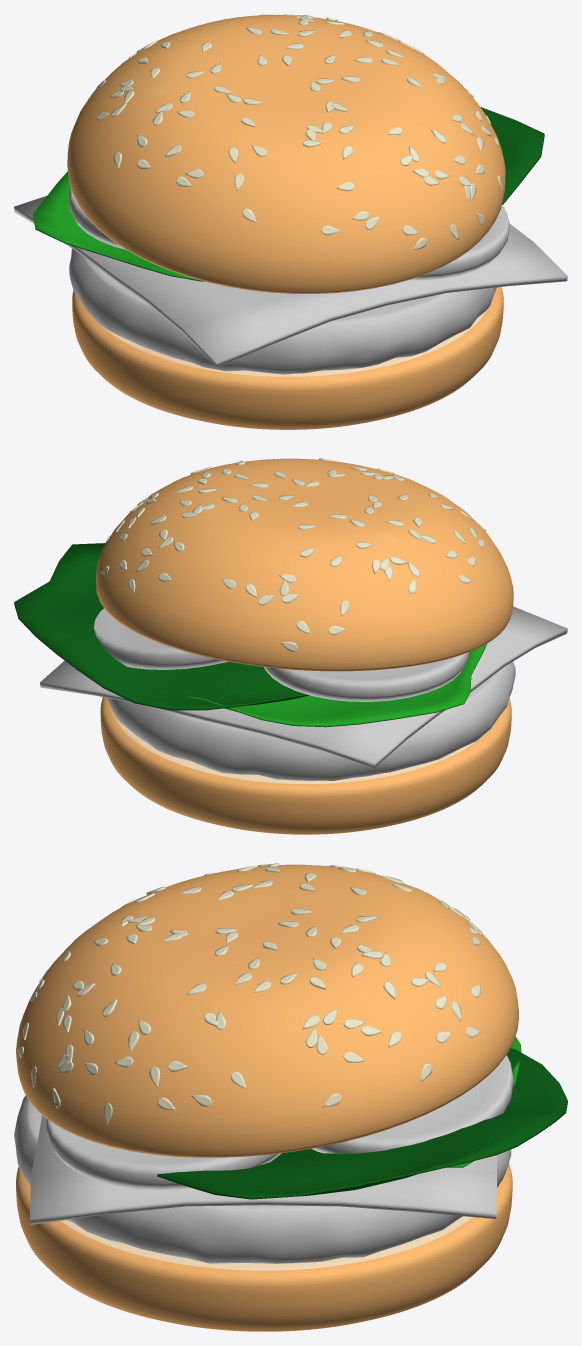
Rendered from Hamburguesa.fbx.
3 renders of one model, top to bottom at view 1: azimuth 30°, elevation 25°; view 2: azimuth 150°, elevation 25°; view 3: azimuth 270°, elevation 25°, orthographic. The views are drawn at different scales.
Parts seen in each view (by area): view 1: PanArriba, PanBajo, Queso, CarneTernera, Lechuga, Lechuga.001, Tomate.002, Tomate.001; view 2: PanArriba, PanBajo, CarneTernera, Lechuga.001, Queso, Lechuga, Tomate.001, Tomate; view 3: PanArriba, PanBajo, CarneTernera, Lechuga.001, Queso, Tomate.002, Tomate.
Boxes of the visible parts, x1,y1,x2,y2 form: PanArriba: (67,14,505,293); PanBajo: (72,287,503,429); Queso: (14,196,567,367); CarneTernera: (69,248,496,374); Lechuga: (33,171,204,281); Lechuga.001: (480,107,544,204); Tomate.002: (409,204,509,280); Tomate.001: (69,188,125,249); PanArriba: (96,458,513,671); PanBajo: (100,697,511,834); CarneTernera: (106,662,515,780); Lechuga.001: (14,543,309,710); Queso: (40,606,567,767); Lechuga: (188,644,486,727); Tomate.001: (264,652,469,701); Tomate: (94,608,227,669); PanArriba: (16,863,518,1157); PanBajo: (16,1163,512,1331); CarneTernera: (14,1095,511,1263); Lechuga.001: (157,1048,567,1199); Queso: (30,1115,497,1224); Tomate.002: (46,1118,281,1189); Tomate: (311,1055,513,1153).
Bounding box in the file's own units: 0.3306 × 0.2015 × 0.2992.
